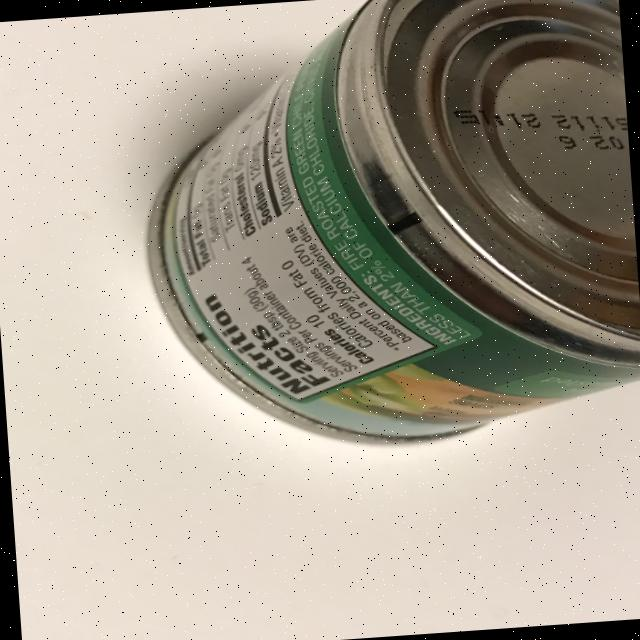metal: (128, 0, 640, 460)
